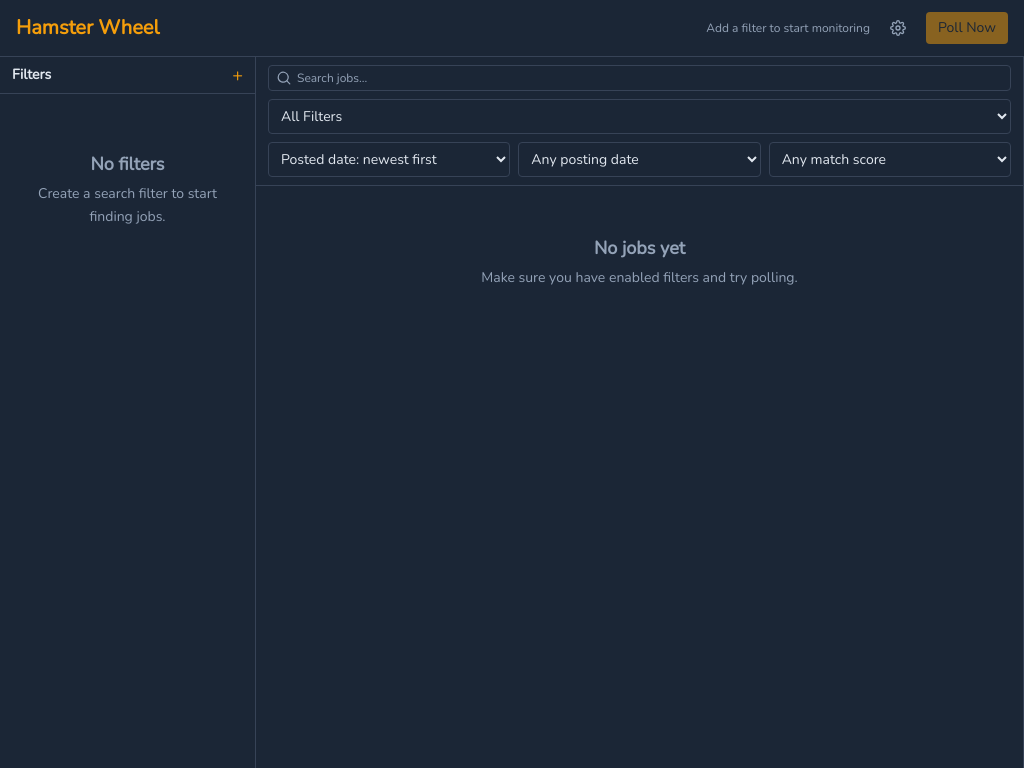
Scenario: App › opens settings panel when gear icon is clicked
Expected: the heading "No jobs yet" is shown, [594, 234, 685, 263]
Step 1. Click the button named "open settings" → click(898, 28), box [886, 16, 910, 40]
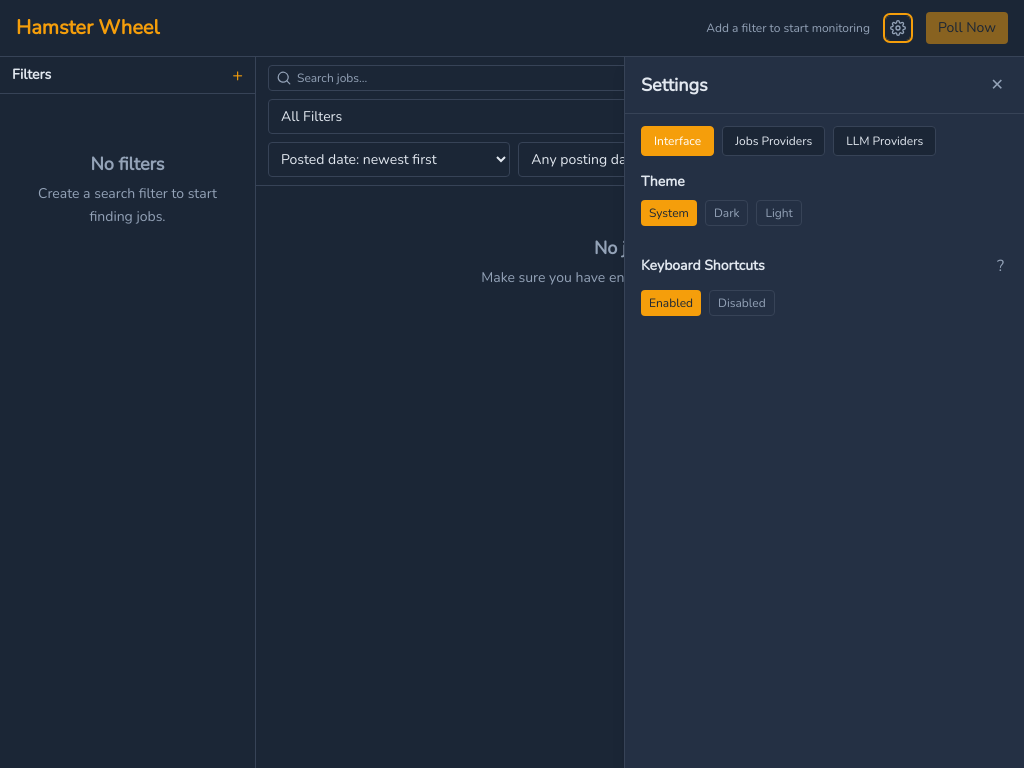
Result: the dialog "Settings" is shown at [624, 57, 1023, 767]
